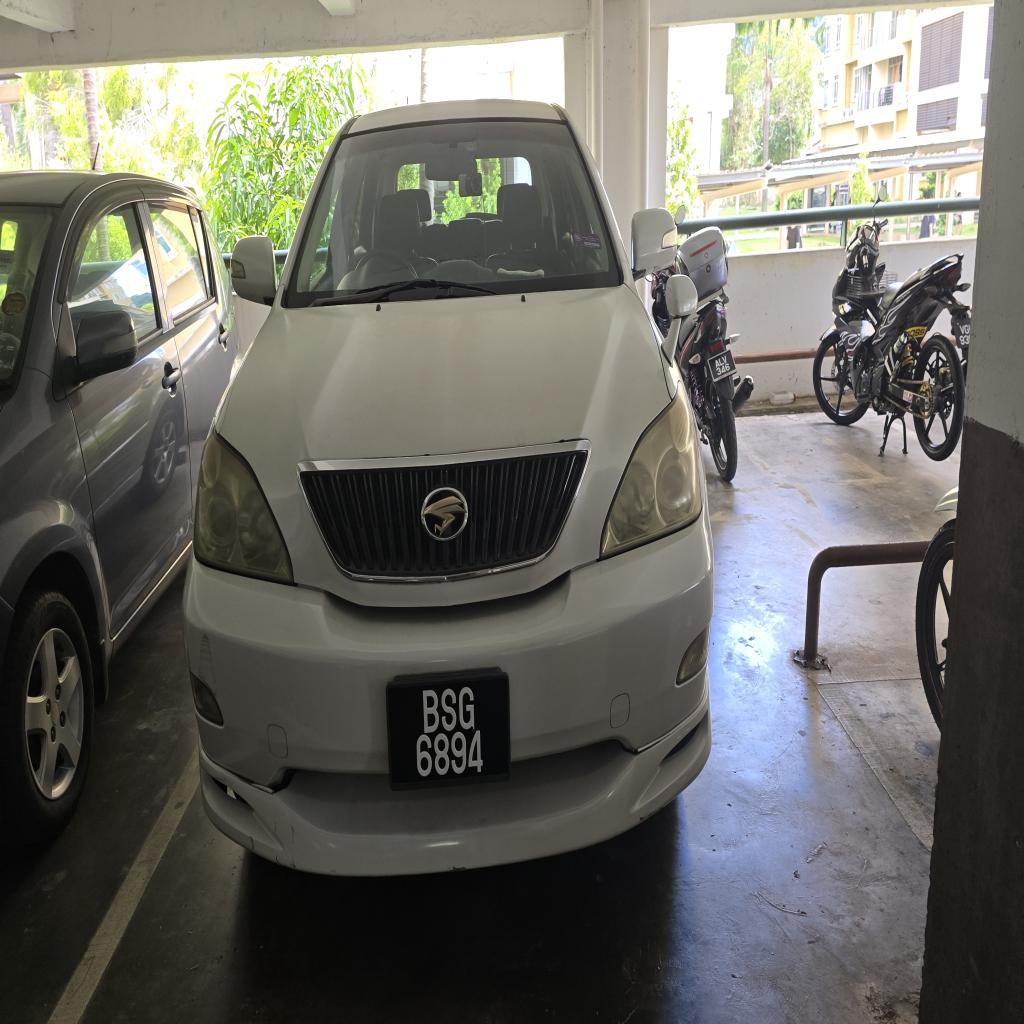car: (185, 101, 712, 874)
car plate: (386, 669, 509, 788)
